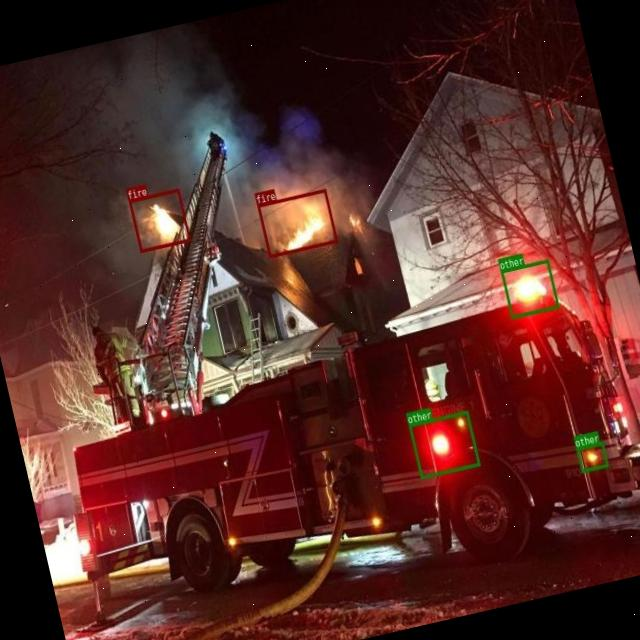fire: (256, 189, 337, 258), (128, 188, 191, 252)
